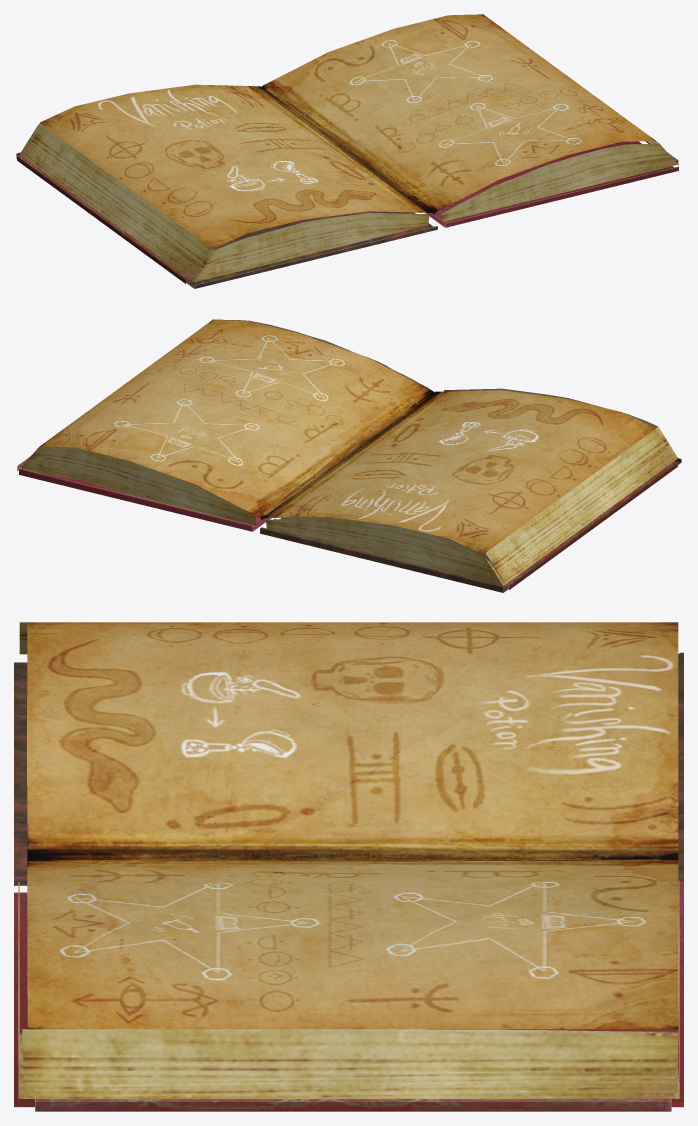
Rendered from OpenBook.fbx.
3 renders of one model, top to bottom at view 1: azimuth 30°, elevation 25°; view 2: azimuth 150°, elevation 25°; view 3: azimuth 270°, elevation 25°, orthographic. The views are drawn at different scales.
Visible parts, largest first — view 1: book; view 2: book; view 3: book.
Boxes of the visible parts, left/top/right/bottom form: book: left=16, top=14, right=678, bottom=288; book: left=17, top=319, right=681, bottom=592; book: left=14, top=622, right=683, bottom=1111.
Size of the model in its own units: 2452 by 188 by 1537.
1 material, 1 textured.
